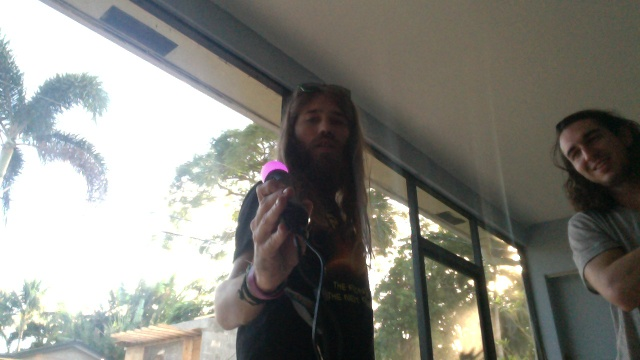wand: (260, 161, 289, 185)
